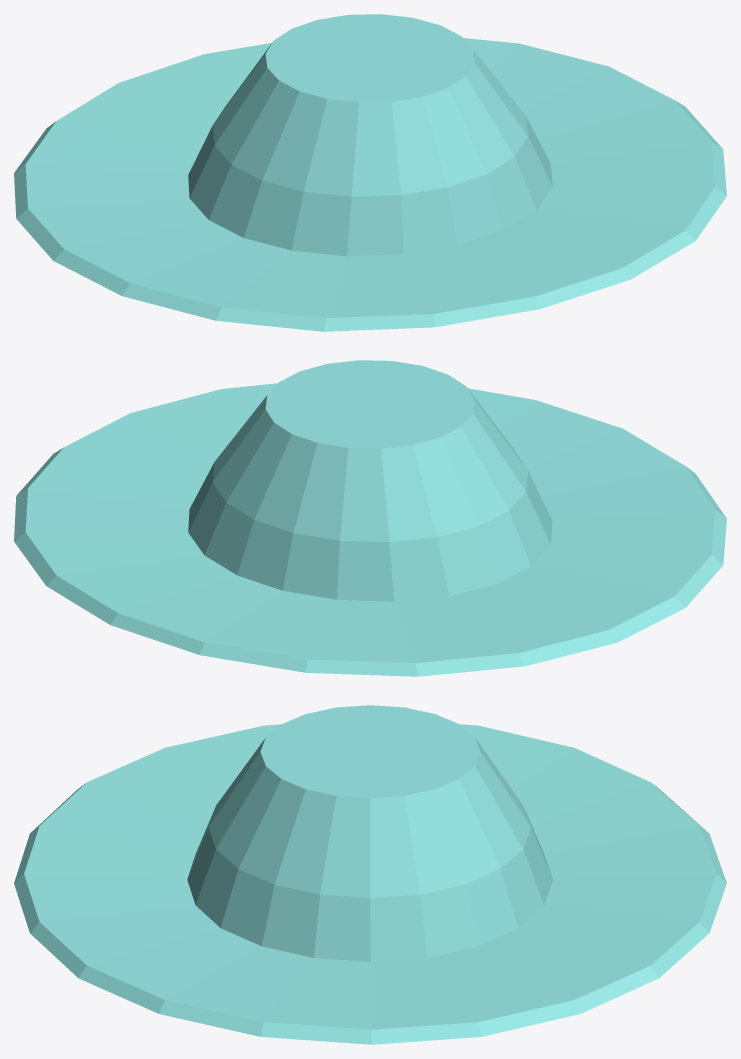
The model's file is Hat1.fbx.
The picture shows the model from 3 angles, top to bottom: view 1: azimuth 30°, elevation 25°; view 2: azimuth 150°, elevation 25°; view 3: azimuth 270°, elevation 25°; orthographic projection. The views are drawn at different scales.
Parts seen in each view (by area): view 1: Hat1; view 2: Hat1; view 3: Hat1.
Part boxes in pixels (<box>): Hat1: <box>14,14,726,331</box>; Hat1: <box>14,360,726,676</box>; Hat1: <box>14,705,726,1044</box>.
Bounding box in the file's own units: 198 × 40.06 × 185.
